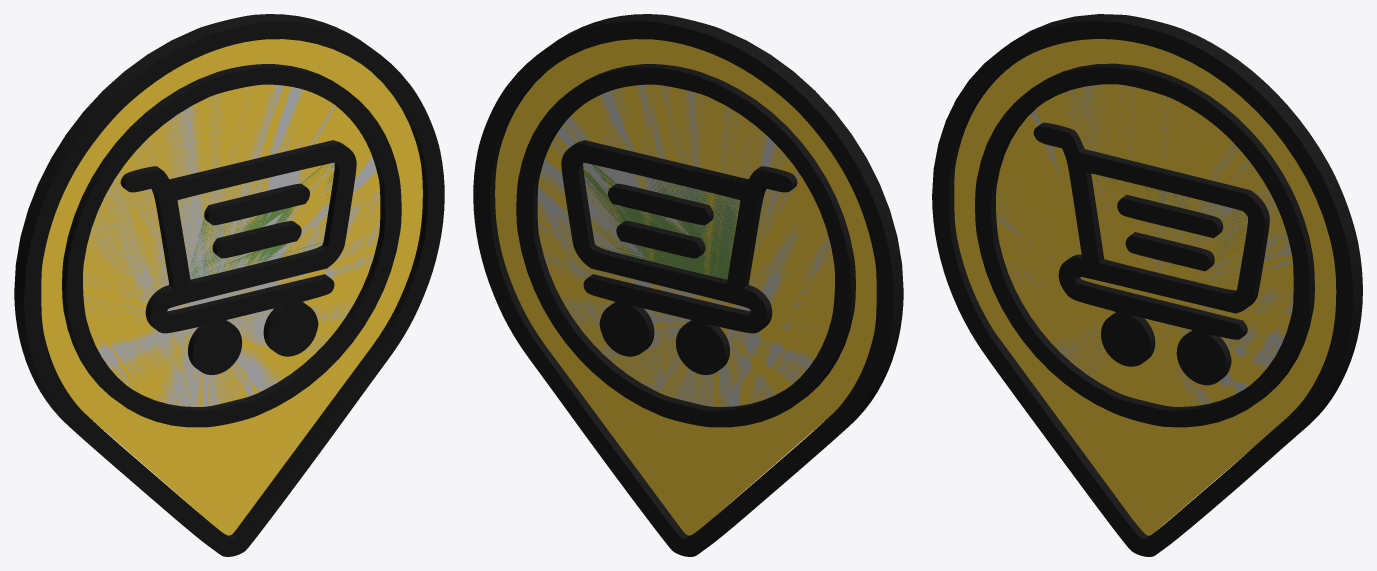
The model's file is market.fbx.
The picture shows the model from 3 angles, left to right: view 1: azimuth 30°, elevation 25°; view 2: azimuth 150°, elevation 25°; view 3: azimuth 330°, elevation 25°; orthographic projection.
Visible parts, largest first — view 1: market; view 2: market; view 3: market.
Boxes of the visible parts, bbox=[...] form: market: bbox=[14, 14, 444, 556]; market: bbox=[473, 14, 903, 556]; market: bbox=[932, 14, 1362, 556].
Bounding box in the file's own units: 4.98 × 5.98 × 0.2.
